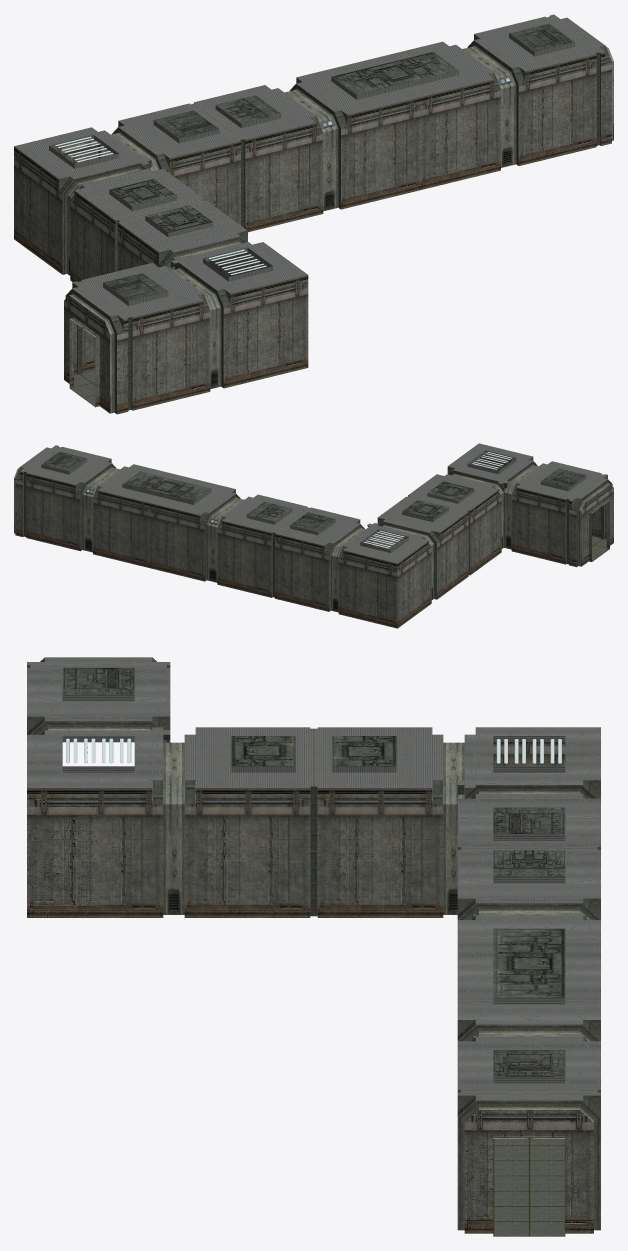
File: poi_all_impl_bunker_crimelord_retreat_s01_r30_hallway09_mesh_r30.fbx
3 views of the same model, one above another, from view 1: azimuth 30°, elevation 25°; view 2: azimuth 150°, elevation 25°; view 3: azimuth 270°, elevation 25° (orthographic). The views are drawn at different scales.
Parts seen in each view (by area): view 1: mesh_node; view 2: mesh_node; view 3: mesh_node.
Boxes of the visible parts, x1,y1,x2,y2 form: mesh_node: (14, 14, 613, 414); mesh_node: (14, 443, 613, 628); mesh_node: (27, 657, 600, 1236).
Bounding box in the file's own units: 30 × 4.2 × 16.
